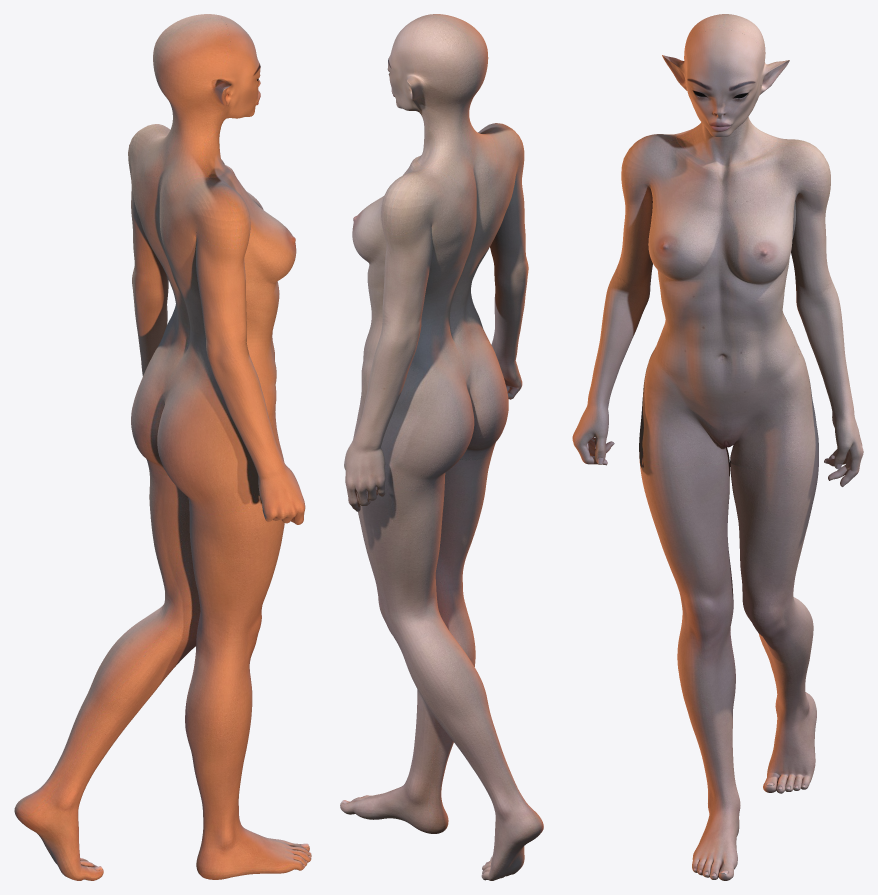
The model's file is rebi_07.glb.
3 renders of one model, left to right at view 1: azimuth 30°, elevation 25°; view 2: azimuth 150°, elevation 25°; view 3: azimuth 270°, elevation 25°, orthographic. The views are drawn at different scales.
Visible parts, largest first — view 1: Genesis8_1Female.Shape; view 2: Genesis8_1Female.Shape; view 3: Genesis8_1Female.Shape.
Part boxes in pixels (box(x1,y1,x2,y2)): Genesis8_1Female.Shape: box(14, 14, 311, 880); Genesis8_1Female.Shape: box(340, 14, 543, 880); Genesis8_1Female.Shape: box(572, 14, 863, 880).
Bounding box in the file's own units: 9.34 × 30.49 × 9.85.
Materials: 17 (17 with a texture image).
